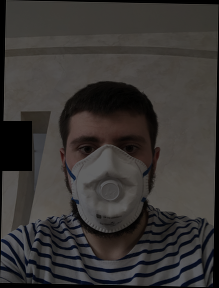with_mask: (64, 127, 152, 238)
